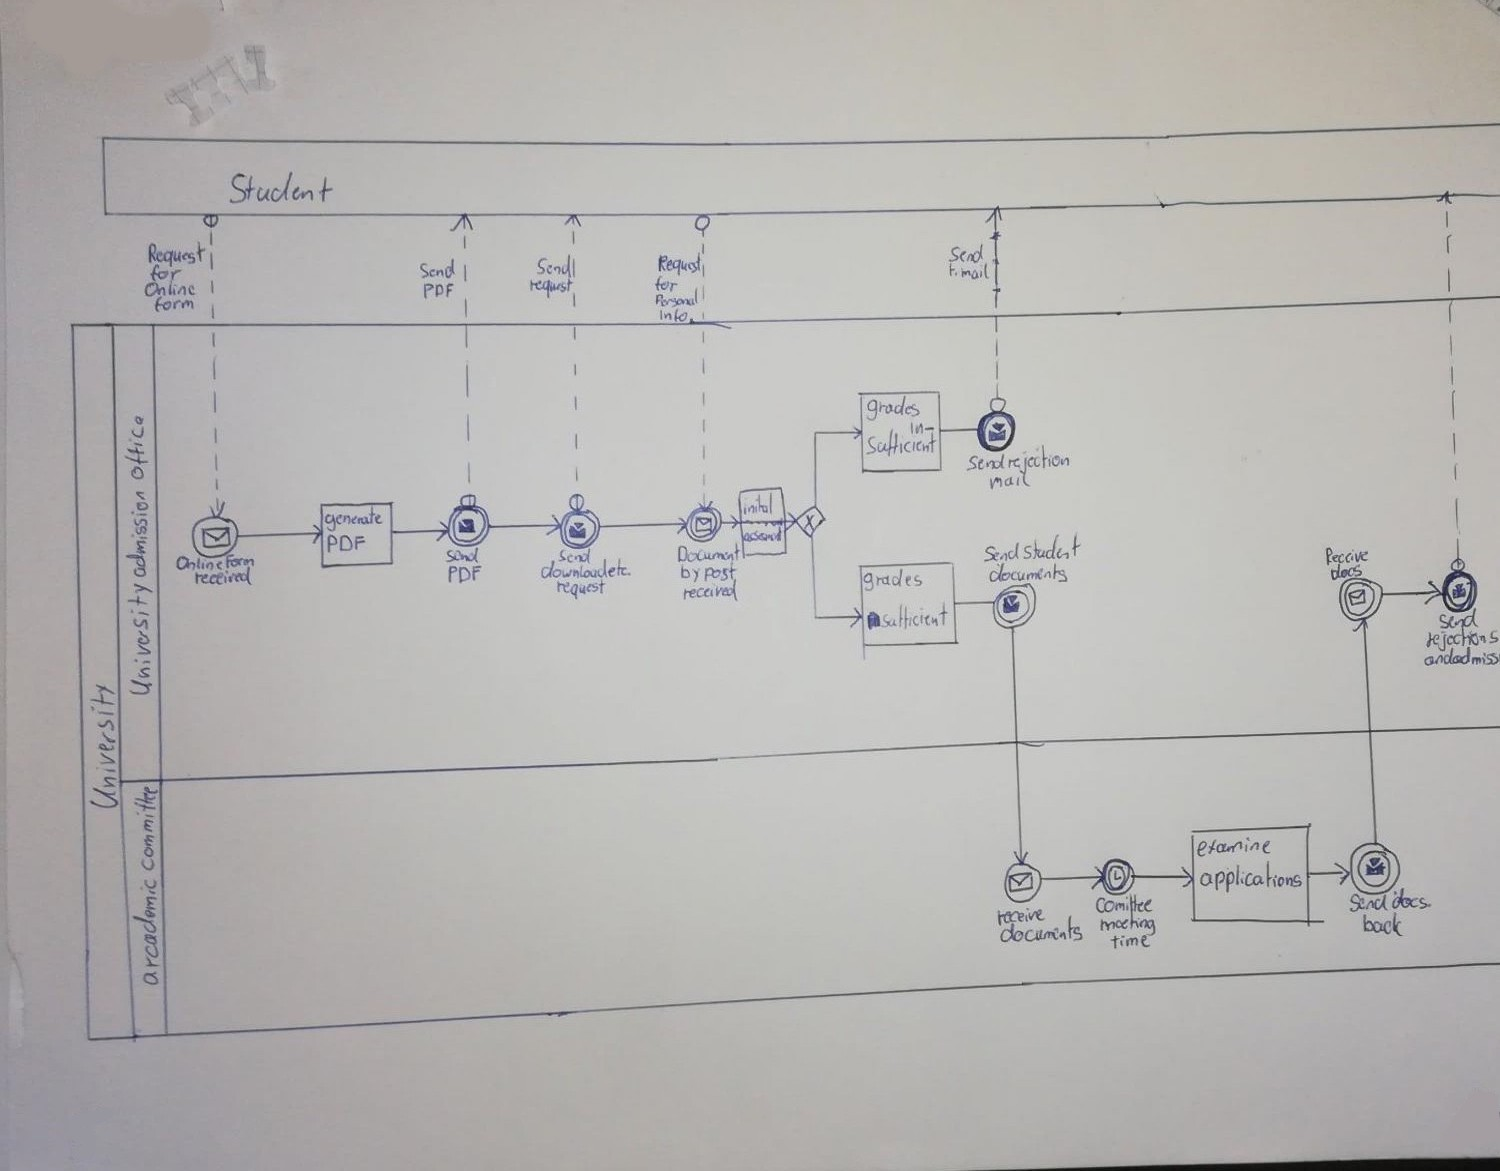Comitee: (1094, 896, 1155, 915)
Document: (676, 542, 744, 565)
Form: (221, 554, 255, 571)
Info.: (656, 309, 696, 323)
Online: (146, 278, 202, 300), (178, 555, 219, 572)
PDF: (325, 530, 368, 552), (421, 280, 457, 301), (448, 564, 480, 579)
Personal: (653, 291, 703, 308)
Receive: (1323, 545, 1368, 566)
Request: (143, 241, 214, 268), (653, 251, 699, 280)
Send: (417, 258, 457, 282), (1347, 892, 1388, 915), (971, 453, 1004, 476), (537, 256, 572, 275), (447, 551, 473, 564)
Student: (227, 172, 335, 207)
Sufficient: (864, 434, 938, 457)
University: (87, 682, 121, 805), (124, 587, 156, 695)
academic: (133, 877, 164, 985)
admission: (123, 485, 154, 581), (1453, 650, 1498, 668)
and: (1423, 649, 1453, 667)
applications: (1198, 868, 1307, 894)
assessment: (738, 525, 783, 547)
back: (1361, 916, 1406, 938)
by: (680, 566, 701, 583)
committee: (132, 783, 161, 872)
docs: (1328, 565, 1365, 582)
docs.: (1391, 891, 1431, 913)
documents: (1004, 922, 1087, 945), (991, 564, 1069, 586)
downloudetc.: (542, 560, 631, 581)
examine: (1195, 837, 1274, 859)
for: (146, 265, 185, 286), (653, 277, 678, 292)
form: (152, 296, 198, 316)
generate: (325, 510, 384, 532)
grades: (861, 569, 926, 592), (866, 398, 922, 421)
in-: (904, 421, 933, 439)
inital: (741, 501, 771, 518)
mail: (992, 471, 1033, 492), (961, 262, 998, 283)
meeting: (1106, 917, 1156, 933)
office: (121, 412, 151, 479)
post: (703, 565, 739, 582)
receive: (994, 908, 1046, 926)
received: (192, 568, 254, 587), (681, 584, 738, 602)
rejection: (1002, 449, 1073, 474), (1424, 628, 1497, 650)
request: (524, 276, 577, 299), (555, 581, 606, 597)
send: (949, 245, 990, 266), (987, 540, 1023, 566), (1439, 613, 1481, 629), (558, 548, 592, 564)
student: (1019, 535, 1085, 565)
sufficient: (875, 604, 950, 634)
t.: (946, 265, 957, 281)
time: (1109, 934, 1151, 950)
